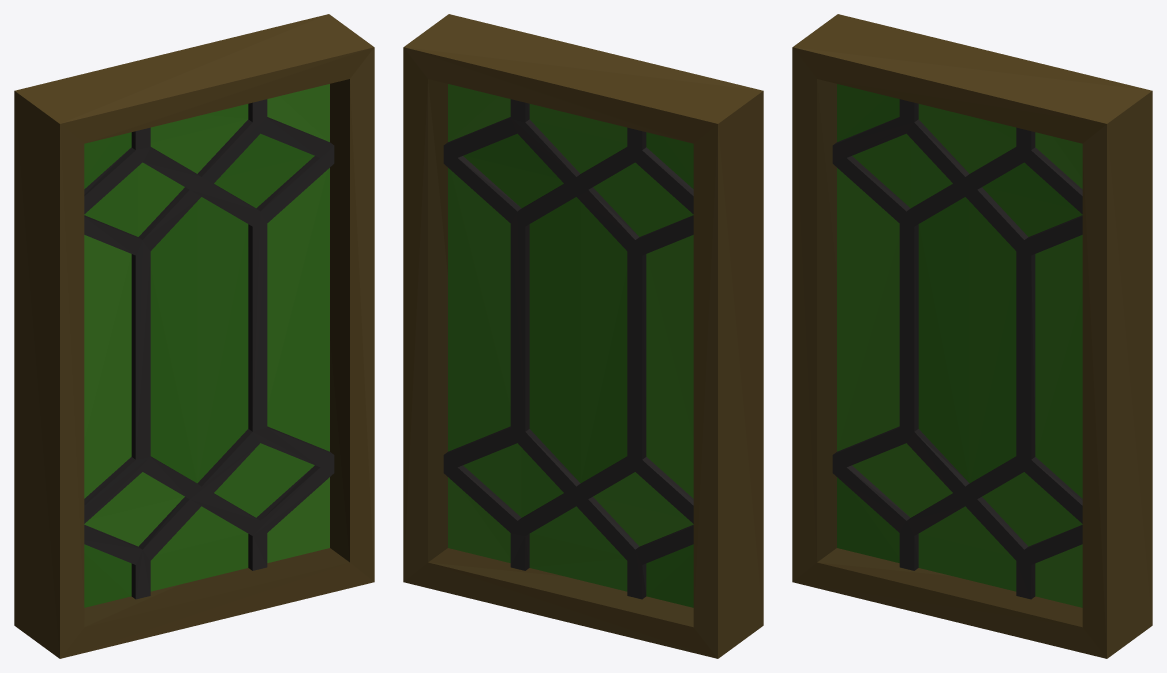
The model's file is window.obj.
The picture shows the model from 3 angles, left to right: view 1: azimuth 30°, elevation 25°; view 2: azimuth 150°, elevation 25°; view 3: azimuth 330°, elevation 25°; orthographic projection.
Visible parts, largest first — view 1: Object Window; view 2: Object Window; view 3: Object Window.
Boxes of the visible parts, x1,y1,x2,y2 form: Object Window: (14, 14, 374, 658); Object Window: (403, 14, 763, 658); Object Window: (792, 14, 1152, 658).
Size of the model in its own units: 64 by 104 by 16.
